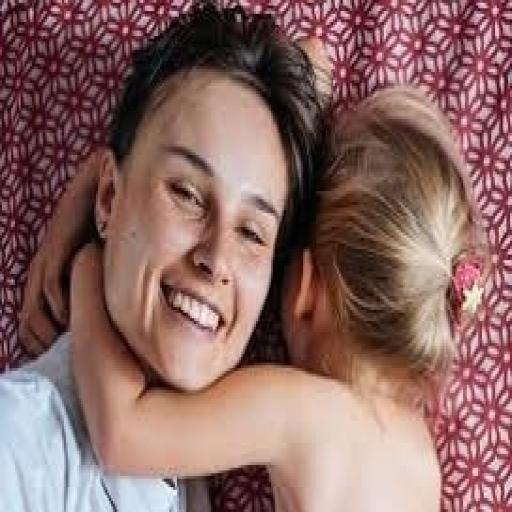hugging: (0, 3, 499, 509)
